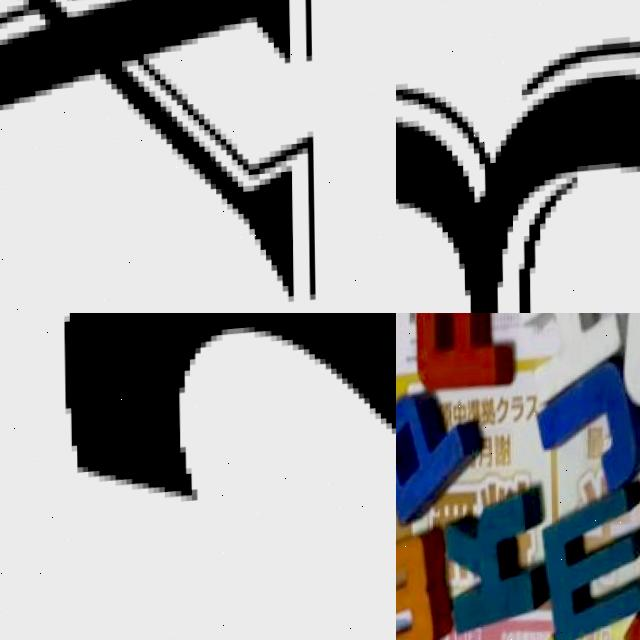2: (51, 313, 396, 640)
A: (412, 313, 513, 403)
B: (396, 50, 640, 313)
H: (517, 313, 621, 407)
J: (536, 362, 640, 500)
K: (446, 490, 542, 640)
M: (542, 485, 640, 640)
P: (396, 387, 482, 525)
W: (396, 529, 440, 640)
X: (0, 0, 319, 313)
